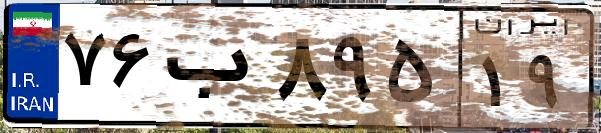1: (475, 38, 525, 113)
5: (385, 28, 445, 110)
6: (110, 28, 158, 98)
7: (57, 26, 110, 100)
8: (270, 28, 330, 110)
9: (330, 28, 385, 110), (525, 38, 570, 115)
ب: (158, 20, 270, 120)
